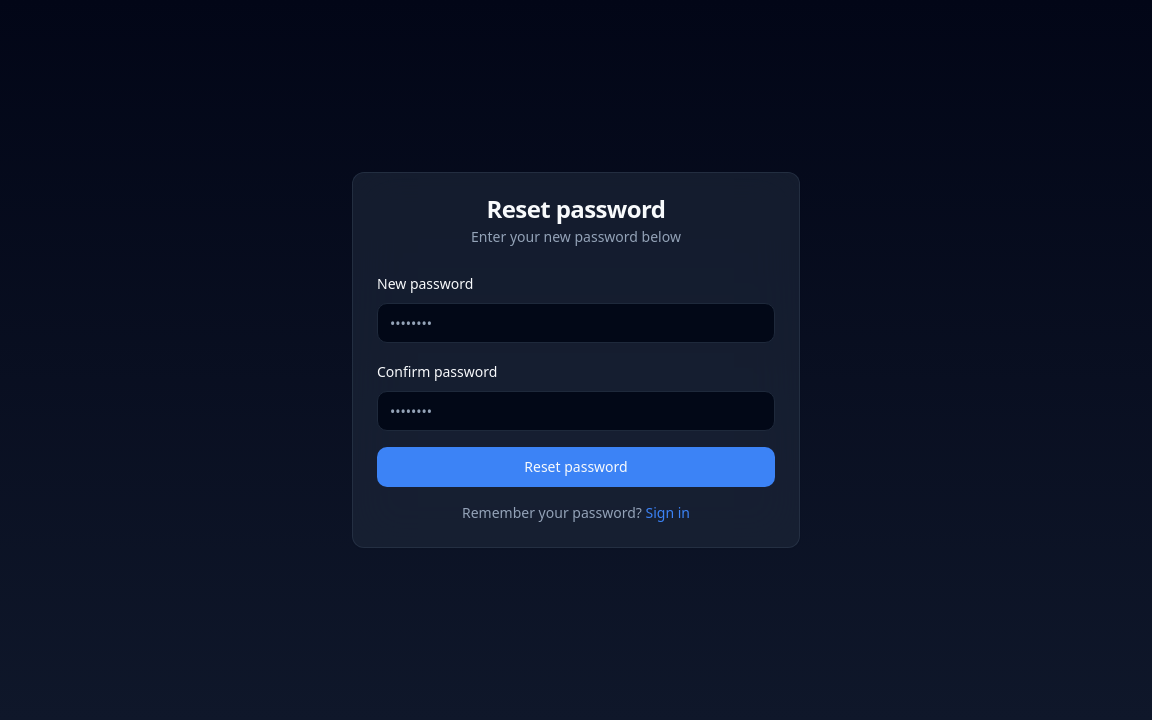
Scenario: ResetPasswordPage › client-side validation › shows error for empty fields
Click the button "Reset password": coordinates (576, 467) [377,447,775,487]
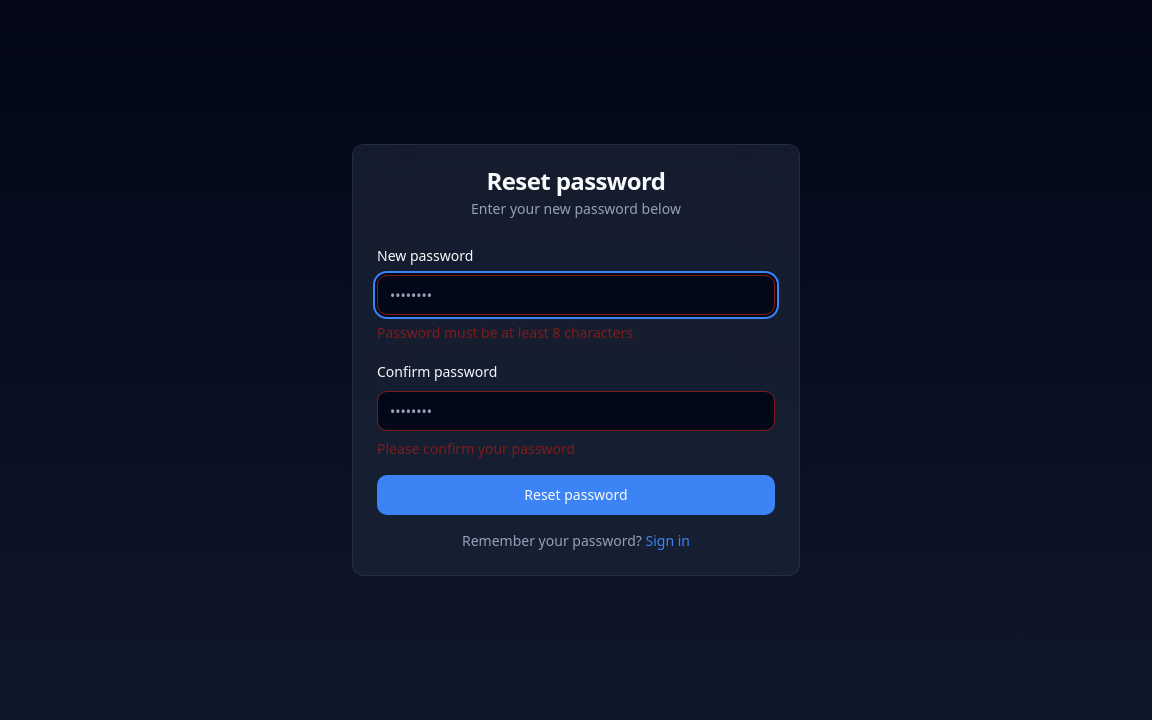
Result: the text "Password must be at least 8 characters" is shown at [377,323,633,342]
Result: the text "Please confirm your password" is shown at [377,439,575,458]
